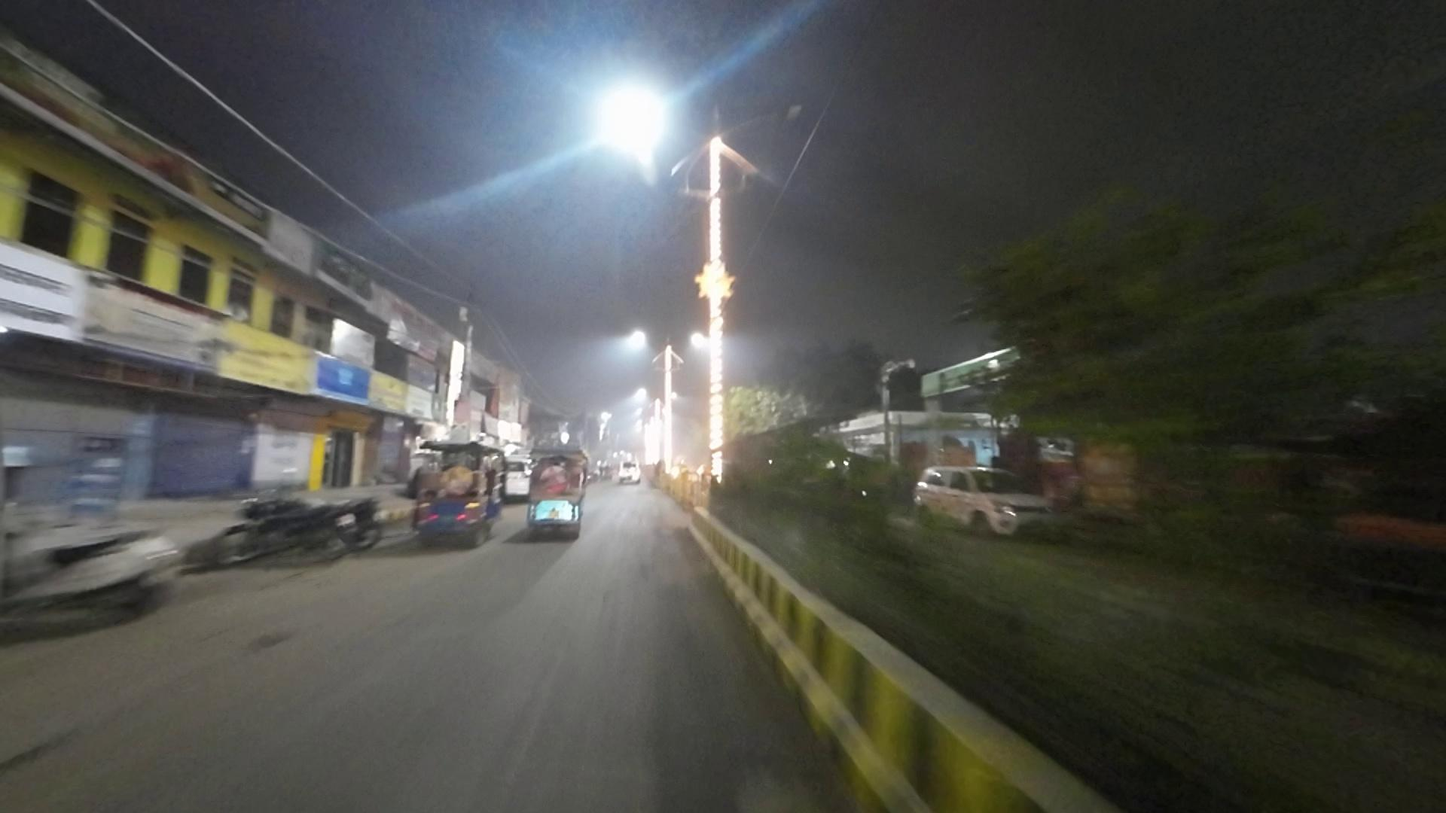streetlight: (733, 99, 803, 132)
